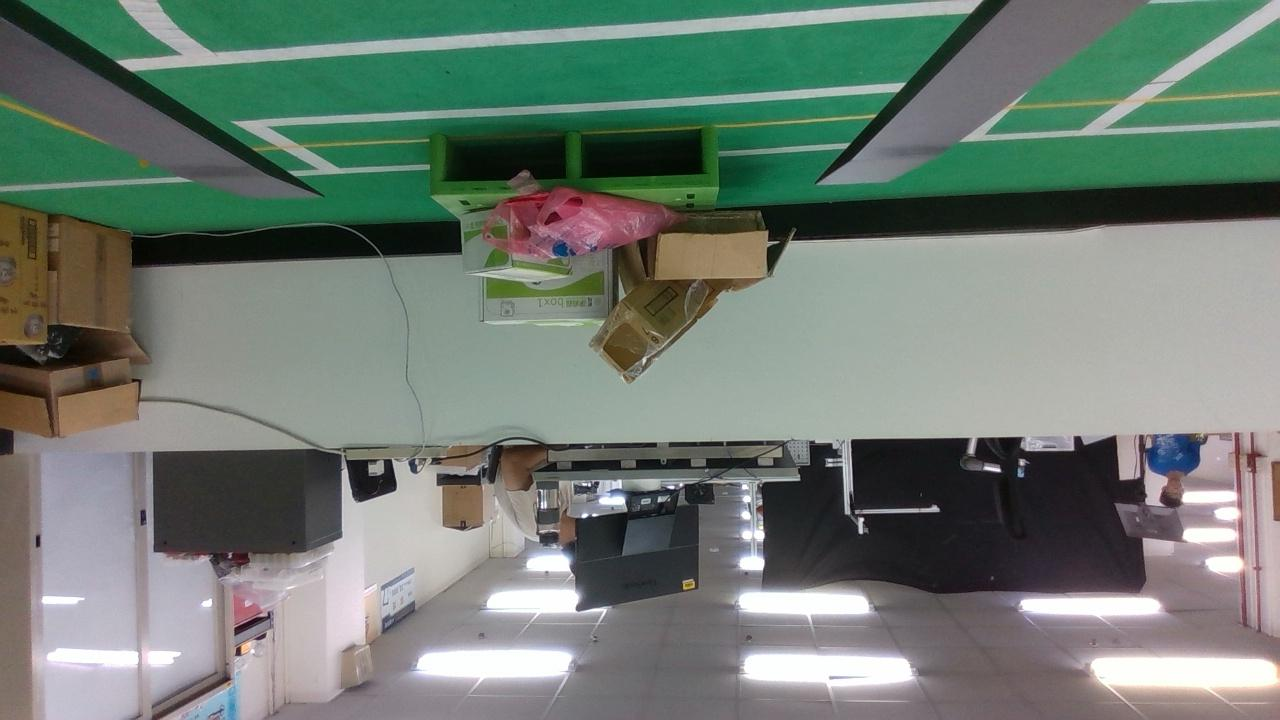Pallet: (428, 128, 720, 198)
